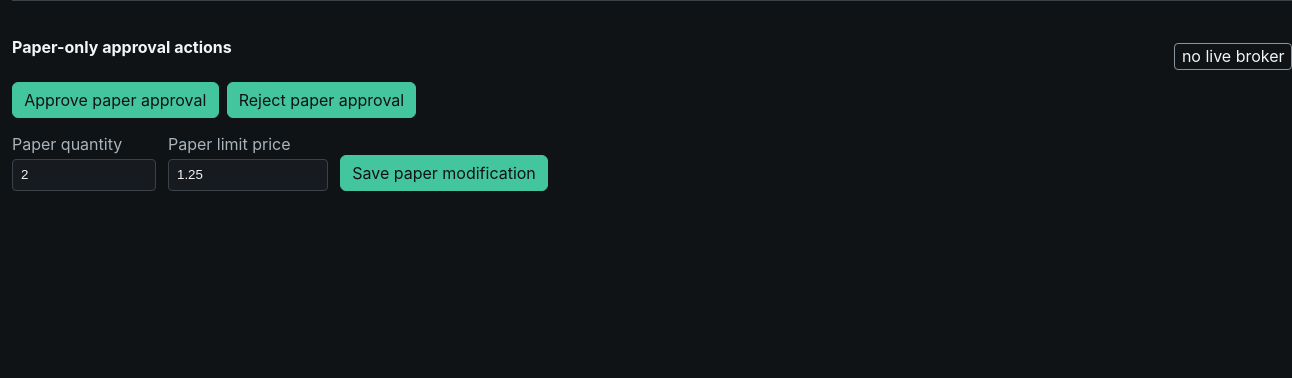
Test case: approves and rejects paper approval cards with paper-only labels
Expected: the heading "Paper-only approval actions" is shown, [12, 37, 232, 58]
Step 1. Click the button "Approve paper approval" → (115, 100), box [12, 82, 218, 118]
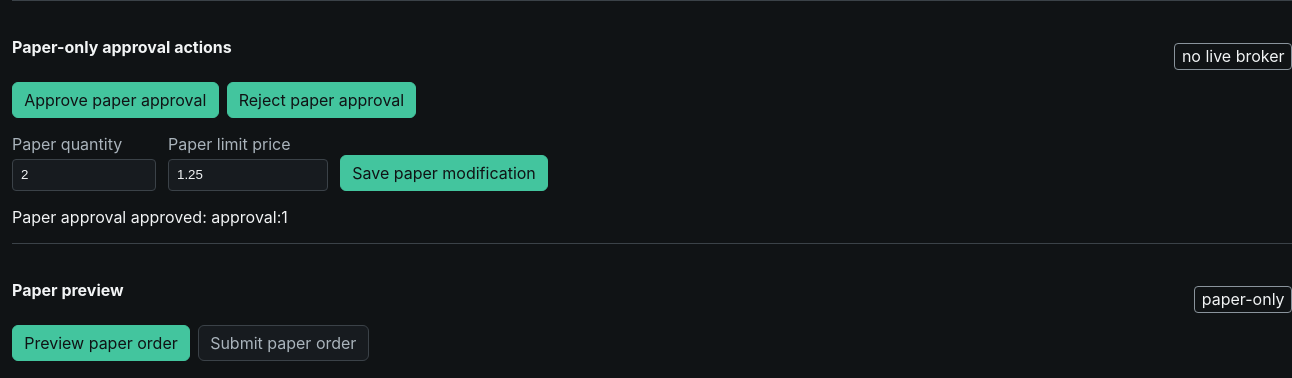
Expected: the text "Paper approval approved: approval:1" is shown, [12, 207, 288, 227]
Step 2. Click the button "Reject paper approval" → (321, 100), box [226, 82, 416, 118]
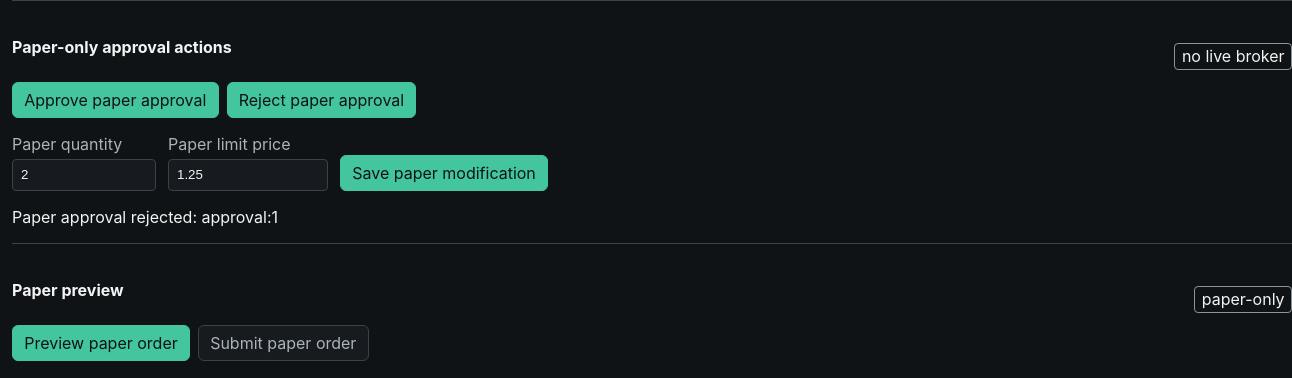
Expected: the text "Paper approval rejected: approval:1" is shown, [12, 207, 278, 227]
